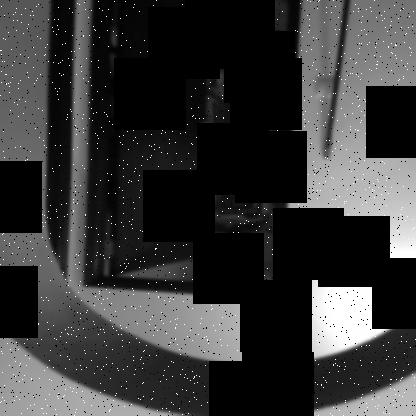Porte: (78, 0, 305, 303)
